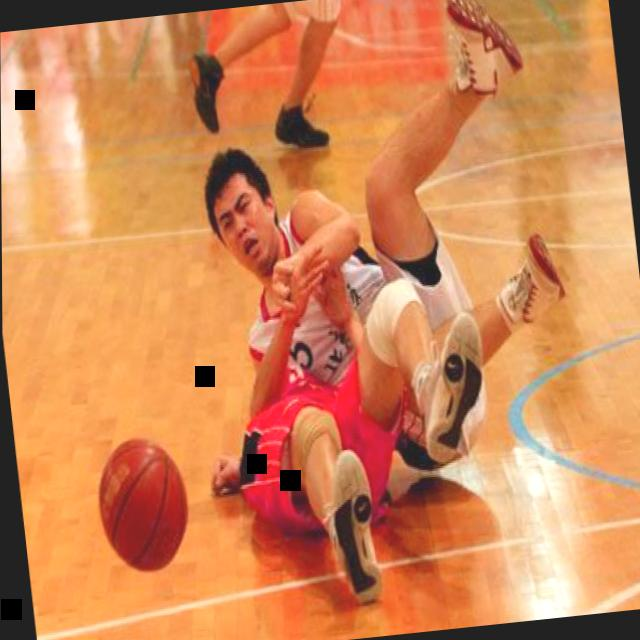Fall-Detected: (186, 299, 431, 606)
